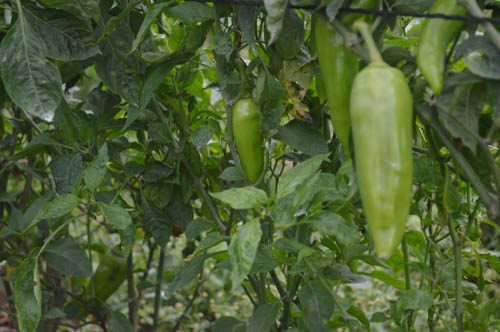ChiliPepper: (352, 64, 416, 265), (317, 19, 357, 157), (418, 4, 467, 101), (75, 254, 132, 323), (230, 101, 269, 182)
